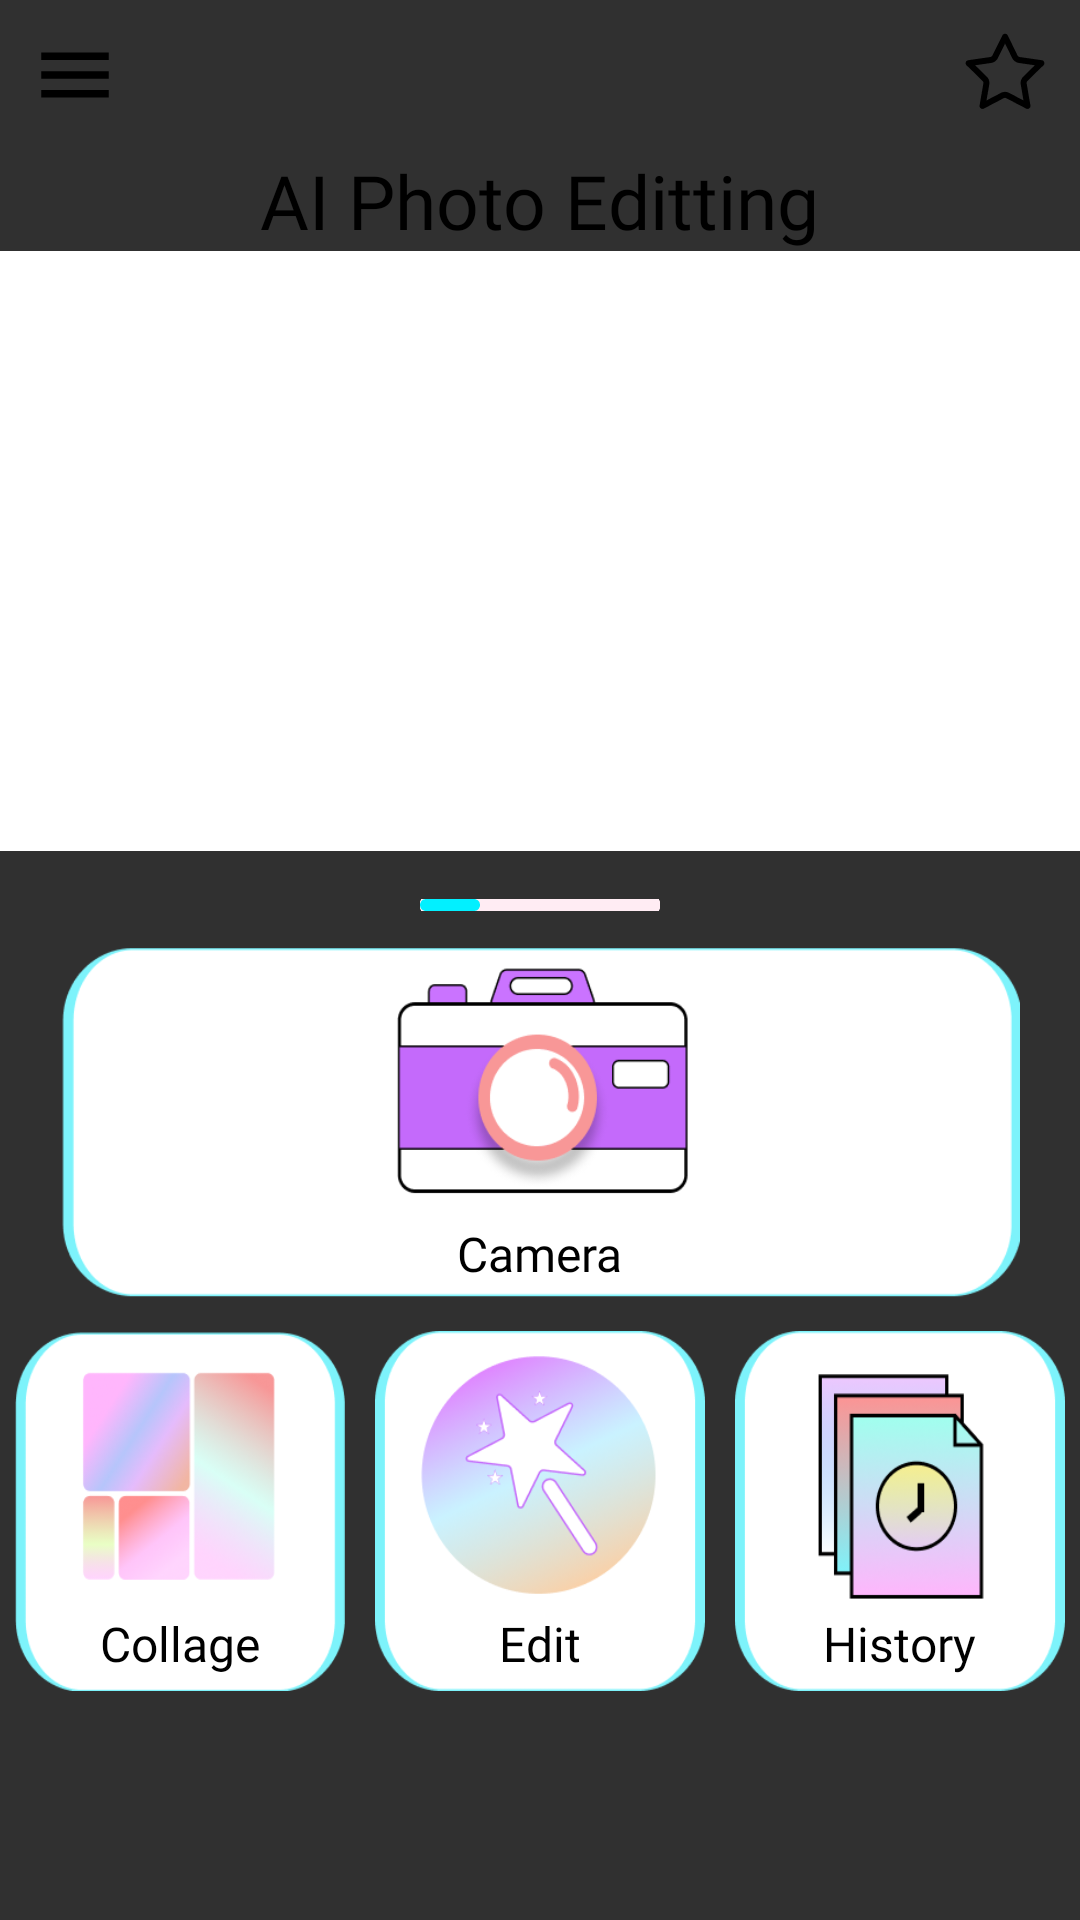

Icons on this 1080px x 1920px Android screen, each with its box as (x1, y1, x2, y2):
menu: (41, 53, 109, 97)
star: (966, 34, 1044, 109)
